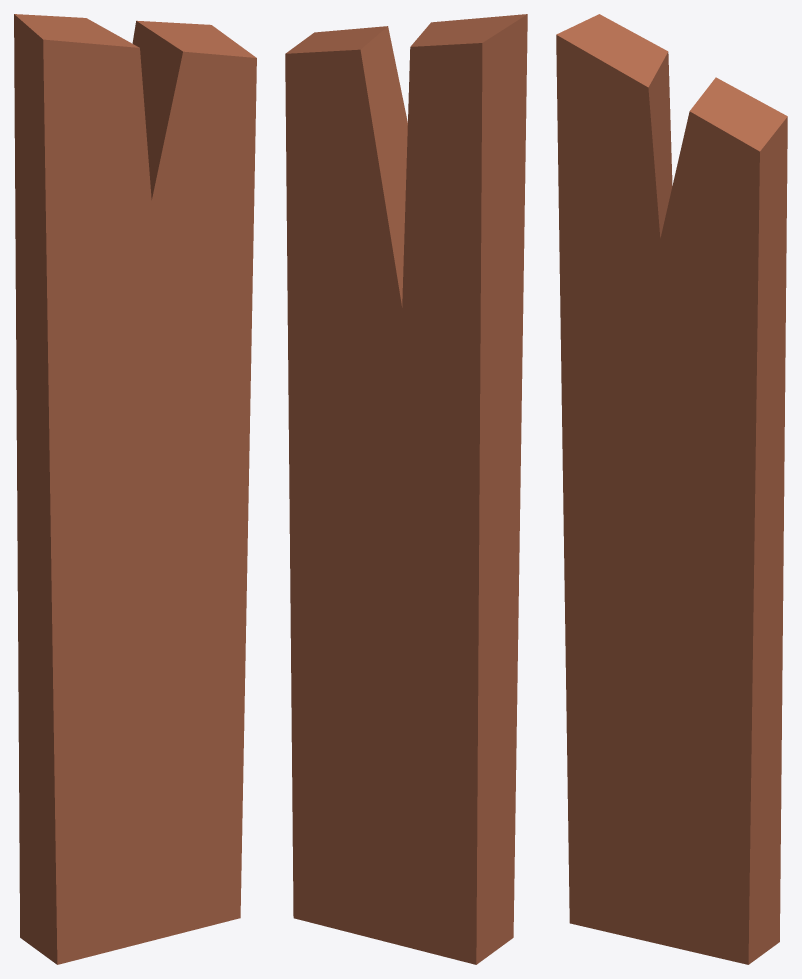
The model's file is Plank 07.fbx.
3 renders of one model, left to right at view 1: azimuth 30°, elevation 25°; view 2: azimuth 150°, elevation 25°; view 3: azimuth 330°, elevation 25°, orthographic. The views are drawn at different scales.
Parts seen in each view (by area): view 1: Plank 07; view 2: Plank 07; view 3: Plank 07.
Part boxes in pixels (x1,y1,x2,y2): Plank 07: (14, 14, 256, 964); Plank 07: (285, 14, 527, 964); Plank 07: (556, 14, 787, 964).
Size of the model in its own units: 24.69 by 102 by 7.46.
